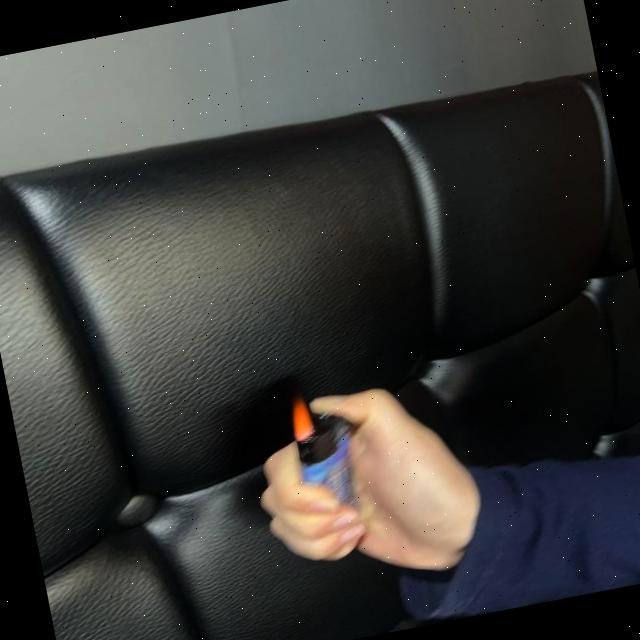fire: (286, 395, 316, 441)
